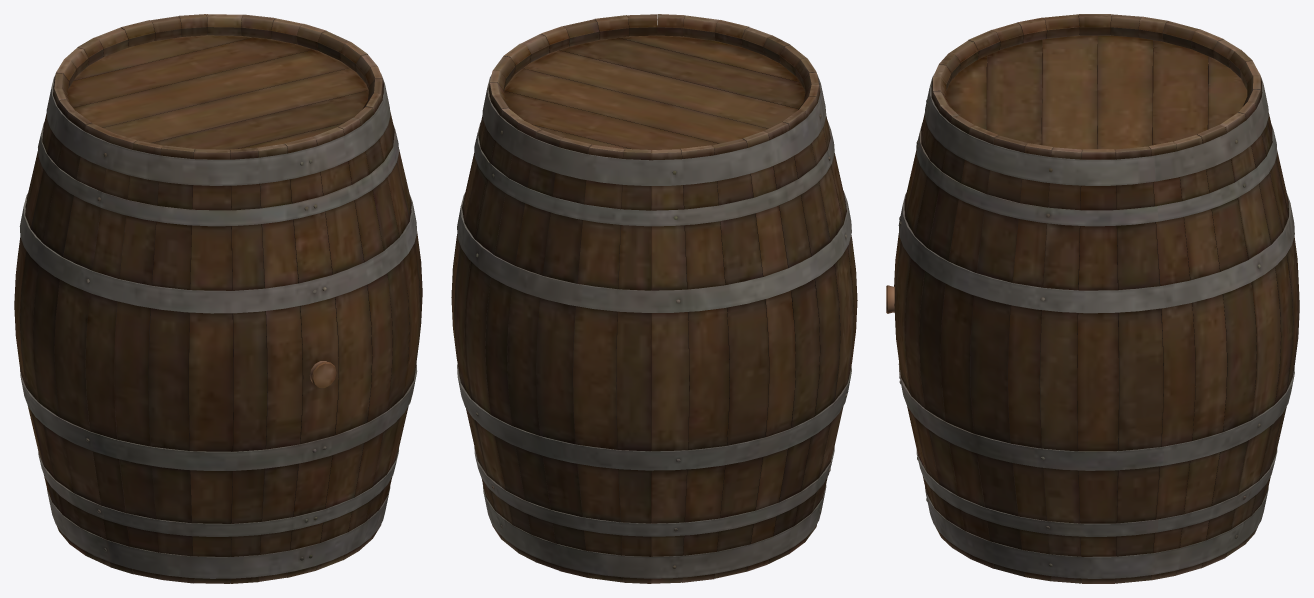
The model's file is wine_barrel_01.glb.
3 views of the same model, side by side, from view 1: azimuth 30°, elevation 25°; view 2: azimuth 150°, elevation 25°; view 3: azimuth 270°, elevation 25° (orthographic).
Parts seen in each view (by area): view 1: wine_barrel_01_lod0; view 2: wine_barrel_01_lod0; view 3: wine_barrel_01_lod0.
Part boxes in pixels (bbox=[...]): wine_barrel_01_lod0: bbox=[14, 14, 422, 583]; wine_barrel_01_lod0: bbox=[451, 14, 857, 583]; wine_barrel_01_lod0: bbox=[886, 14, 1299, 583].
Size of what is drawn, in the model's own units: 0.7419 by 0.8705 by 0.7559.
1 material, 1 textured.
